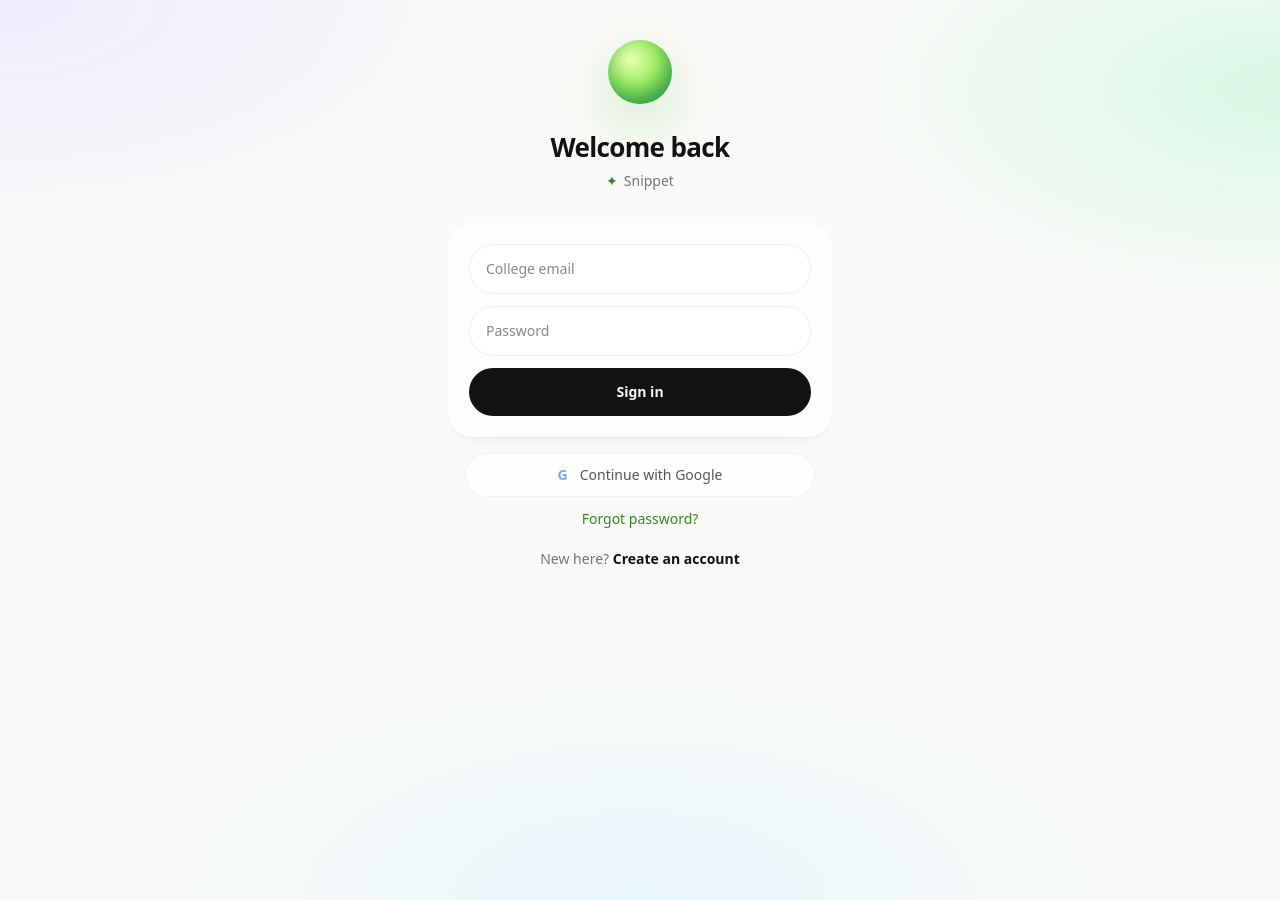
Scenario: AuthPage Login Error Handling › 4. Displays clear network error when connection to server fails
Type "student@ustu.edu.in" into the field with placeholder "College email" at (640, 269), box x1=469 y1=244 x2=811 y2=294
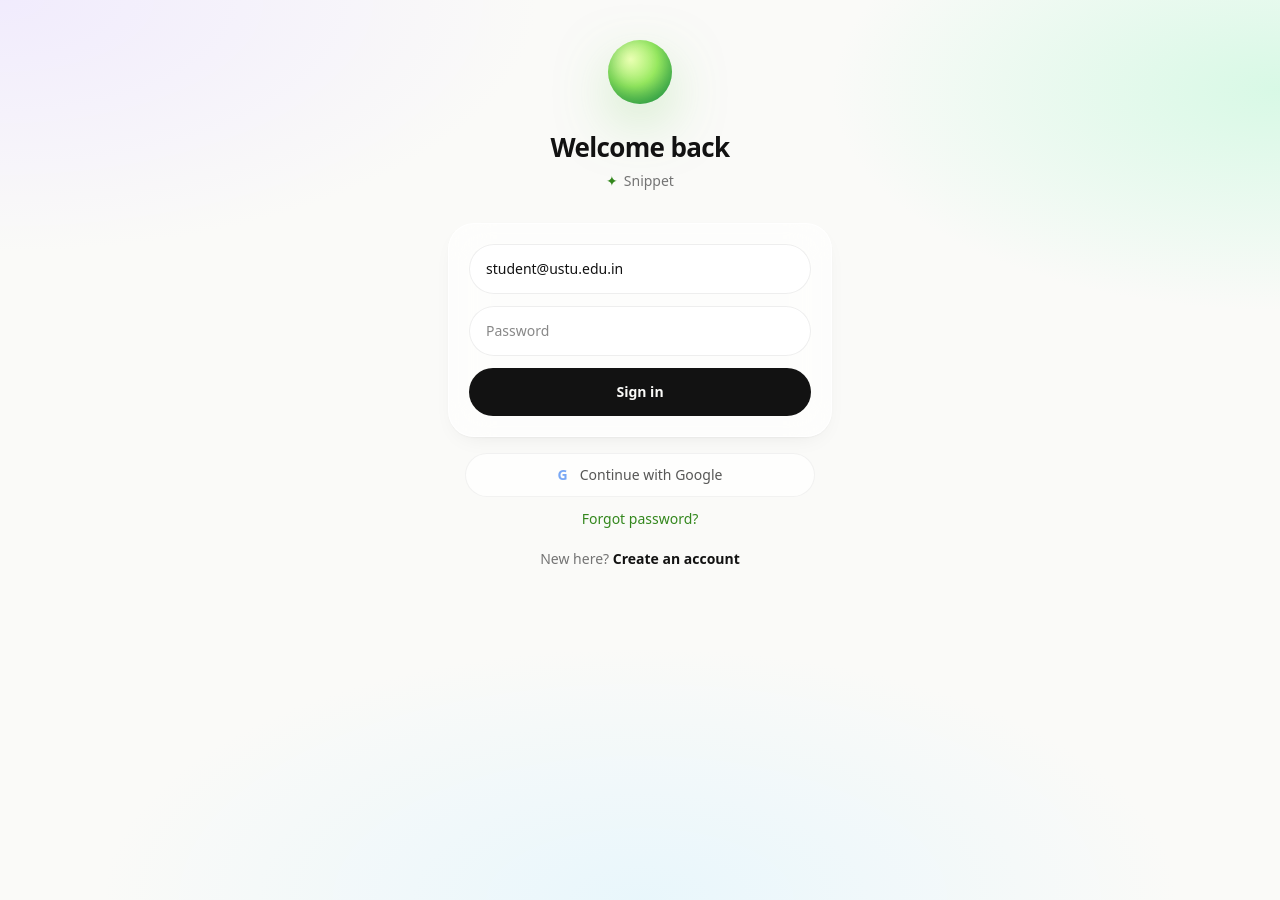
Type "secret123" into the password field with placeholder "Password" at (640, 331), box x1=469 y1=306 x2=811 y2=356
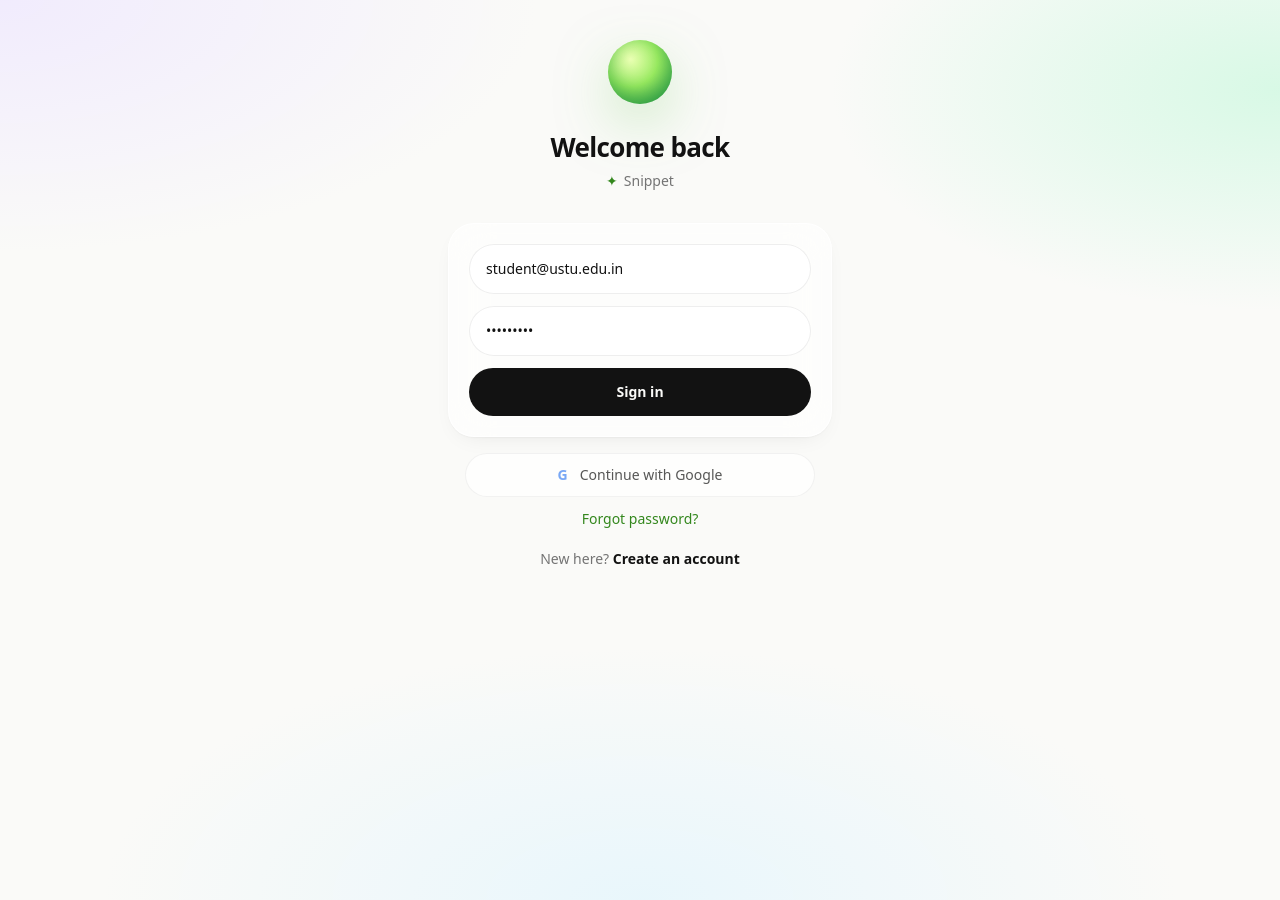
Click the button "Sign in" at (640, 392), box x1=469 y1=368 x2=811 y2=416
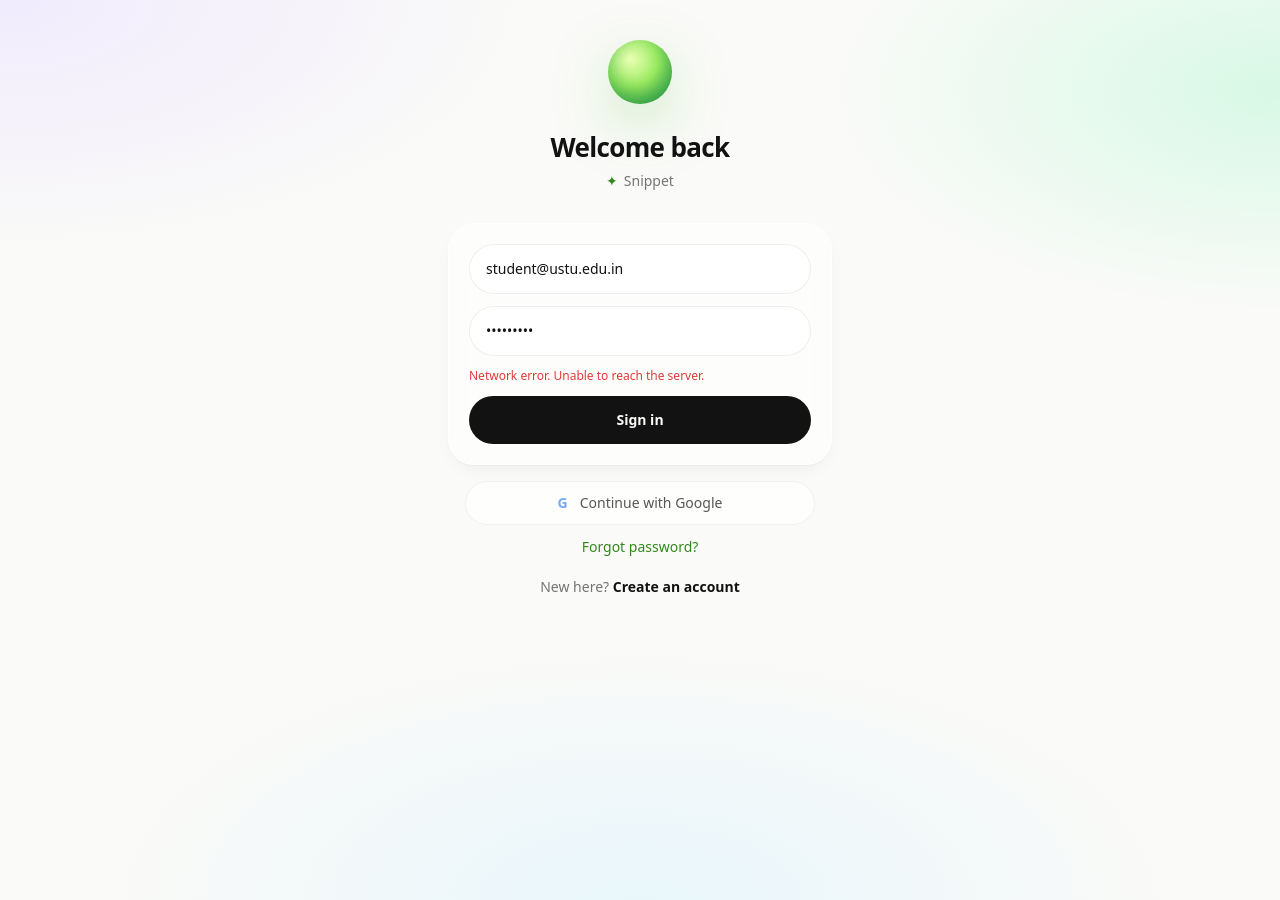
Now the text "Network error. Unable to reach the server." is shown, box x1=469 y1=367 x2=704 y2=384
